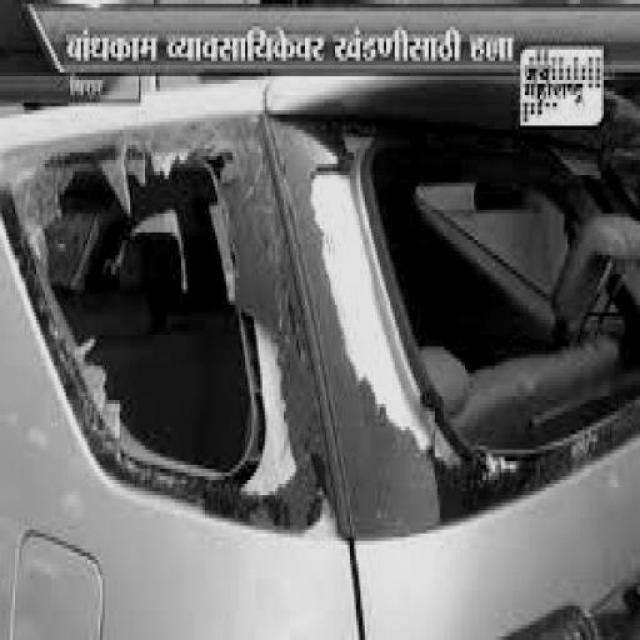car damage: (307, 107, 639, 486), (20, 131, 315, 529)
